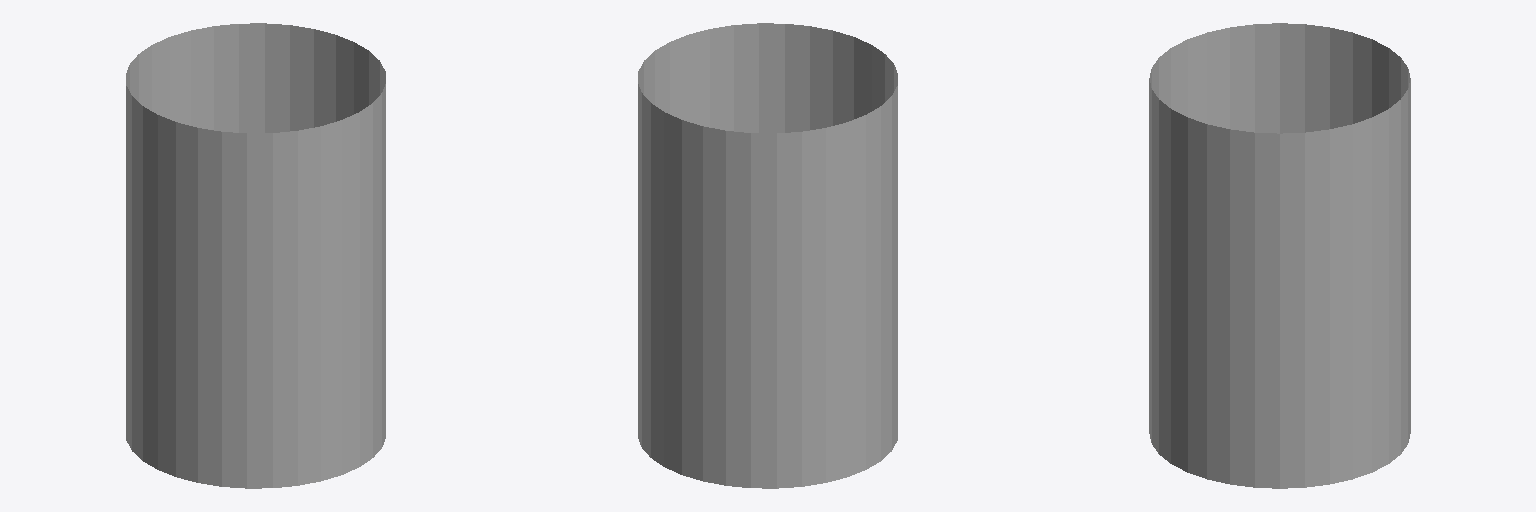
The model's file is primitiveCylinder.obj.
3 renders of one model, left to right at view 1: azimuth 30°, elevation 25°; view 2: azimuth 150°, elevation 25°; view 3: azimuth 270°, elevation 25°, orthographic.
Bounding box in the file's own units: 2 × 3 × 2.